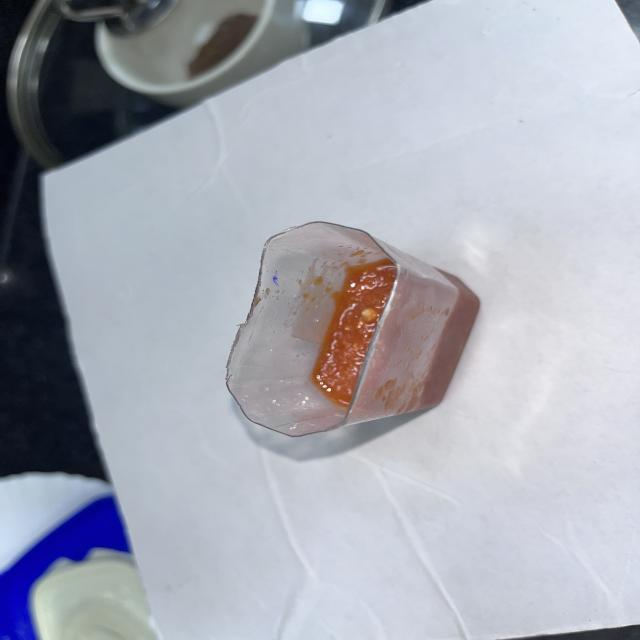blended_pepper: (309, 259, 399, 407)
